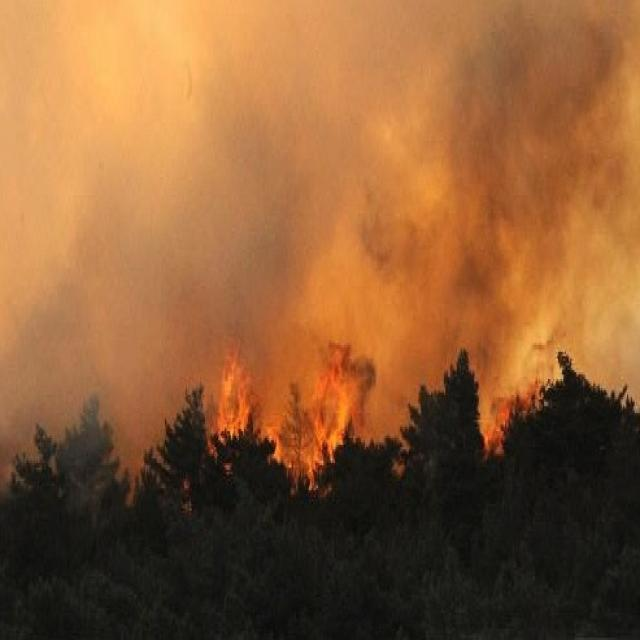Fire: (210, 338, 360, 495), (484, 394, 510, 456)
Smoke: (1, 2, 640, 506)
